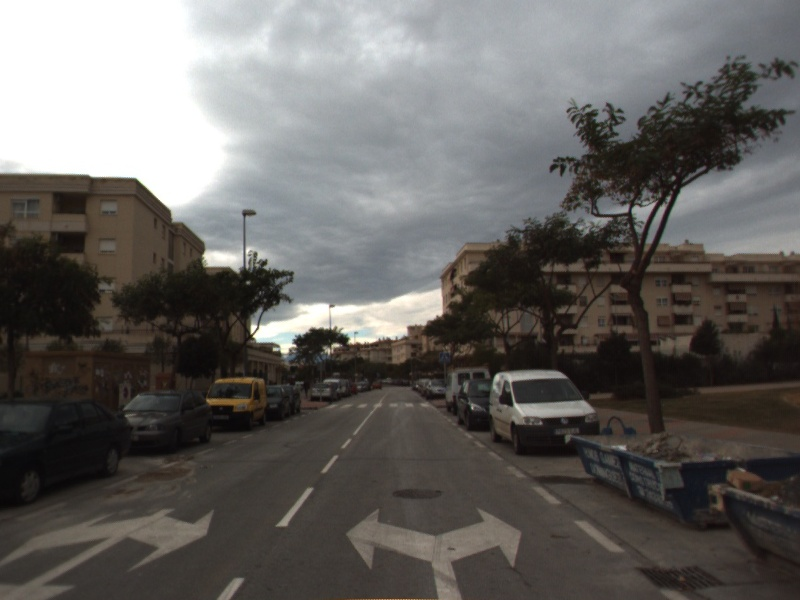LEFT_RIGHT: (343, 503, 526, 600)
